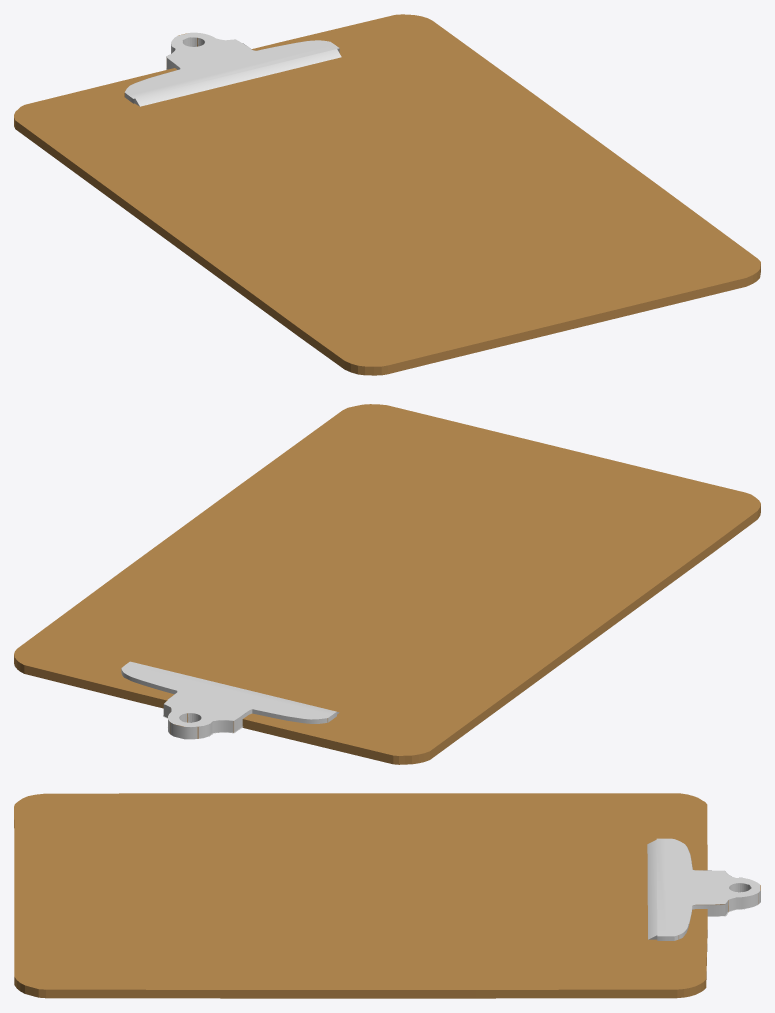
File: Clipboard 1.fbx
3 renders of one model, top to bottom at view 1: azimuth 30°, elevation 25°; view 2: azimuth 150°, elevation 25°; view 3: azimuth 270°, elevation 25°, orthographic. The views are drawn at different scales.
Parts seen in each view (by area): view 1: Plane, Plane.001; view 2: Plane, Plane.001; view 3: Plane, Plane.001.
Boxes of the visible parts, x1,y1,x2,y2 form: Plane: [14, 14, 760, 375]; Plane.001: [124, 32, 341, 106]; Plane: [14, 404, 760, 764]; Plane.001: [121, 661, 339, 739]; Plane: [14, 793, 707, 998]; Plane.001: [647, 838, 760, 940].
Bounding box in the file's own units: 499 × 28.61 × 802.
